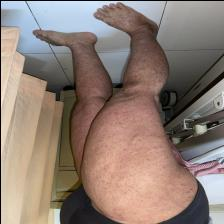Psoriasis vulgaris: (122, 170, 134, 190), (108, 106, 122, 120), (104, 142, 108, 148)
